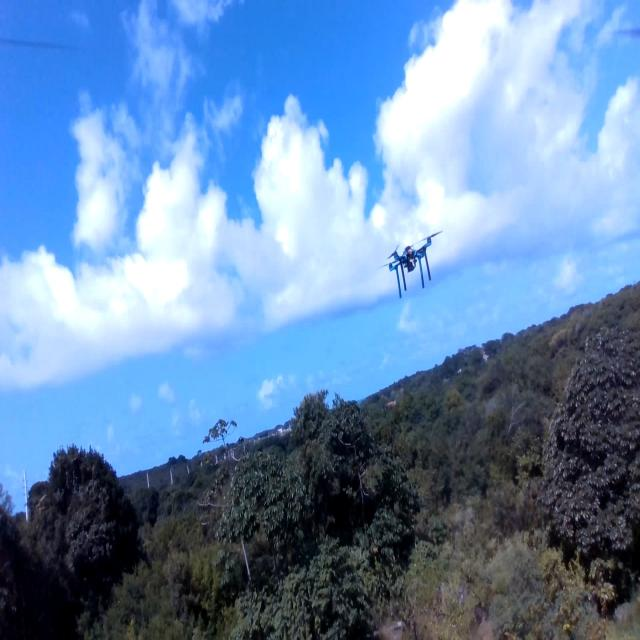-uav-: (376, 222, 449, 314)
